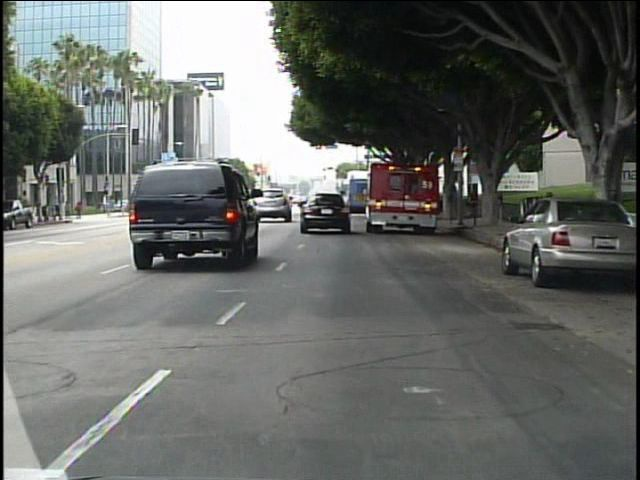person: (468, 186, 481, 218), (74, 197, 87, 222), (63, 198, 74, 222)
